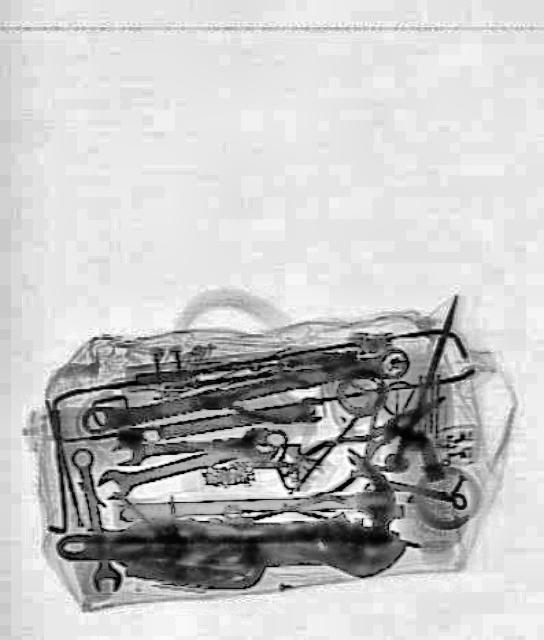Wrench: (76, 343, 410, 437), (52, 506, 404, 582), (93, 423, 273, 503), (64, 443, 122, 593), (109, 422, 287, 466)
